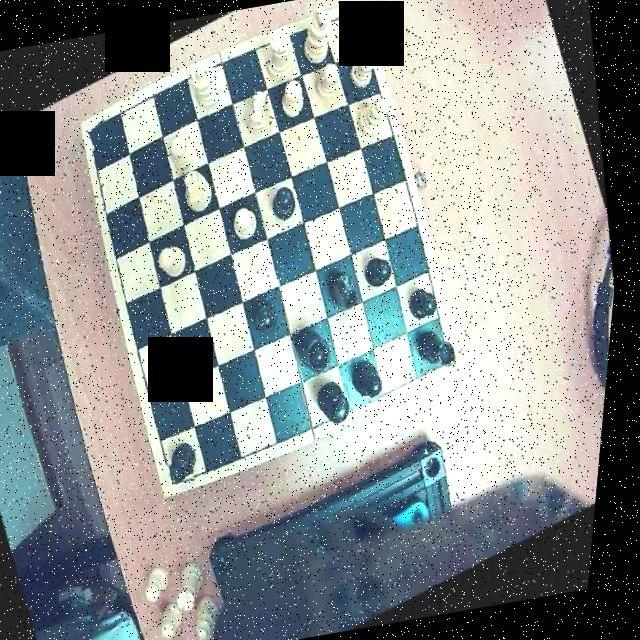chess-table-corners: (164, 453, 210, 498), (77, 112, 119, 155), (426, 340, 468, 380), (333, 0, 369, 37)
